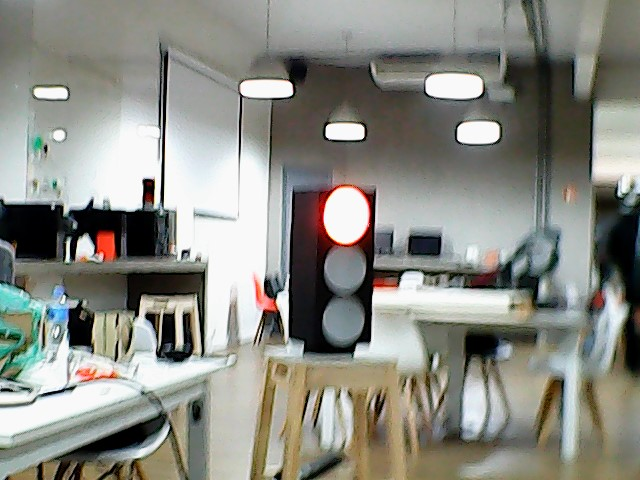vermelho: (290, 185, 375, 346)
